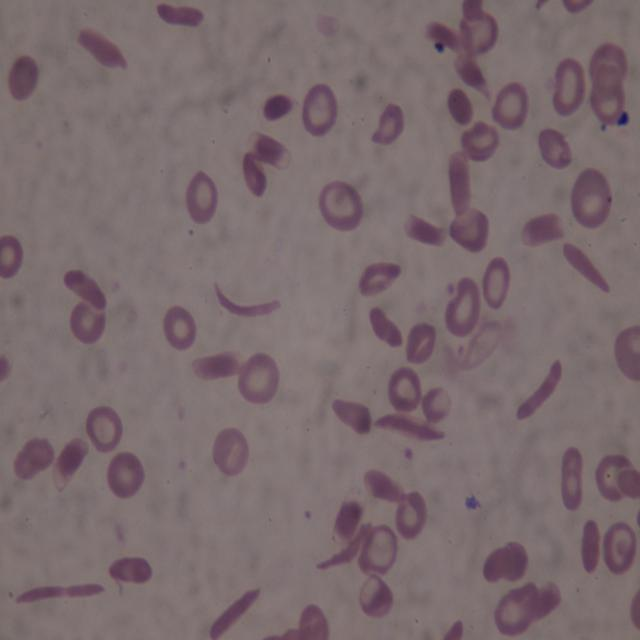Crystal: (64, 266, 108, 314), (54, 436, 89, 489), (330, 392, 371, 436), (368, 305, 404, 351), (362, 471, 408, 506), (250, 133, 291, 171), (454, 53, 490, 96), (560, 445, 582, 515), (448, 152, 472, 215), (522, 213, 564, 247), (108, 554, 152, 584), (424, 24, 465, 56), (404, 215, 445, 247), (242, 152, 268, 202), (192, 354, 241, 380), (156, 3, 203, 29), (580, 520, 600, 574), (444, 620, 466, 640)
Normal: (105, 450, 145, 500), (237, 353, 279, 400), (492, 80, 530, 130), (85, 404, 123, 452), (185, 169, 218, 224), (162, 305, 197, 351), (396, 492, 427, 538), (0, 233, 22, 280)
Others: (458, 315, 507, 372), (569, 167, 614, 227), (319, 178, 362, 235), (493, 580, 538, 634), (444, 273, 481, 337), (357, 522, 398, 574), (594, 452, 635, 503), (550, 56, 584, 116), (448, 206, 490, 252), (302, 83, 337, 137), (588, 74, 624, 125), (212, 426, 249, 474), (589, 44, 628, 89), (356, 263, 406, 298), (458, 14, 502, 52), (368, 103, 403, 149), (604, 521, 635, 572), (12, 437, 51, 477), (613, 325, 640, 382), (459, 123, 500, 160), (525, 582, 561, 624), (386, 368, 421, 411), (360, 572, 394, 616), (8, 54, 39, 102), (482, 256, 509, 310), (68, 302, 105, 341), (540, 126, 574, 168), (330, 498, 364, 536), (406, 323, 438, 362), (499, 539, 530, 579), (422, 386, 451, 424), (297, 603, 328, 638), (446, 89, 473, 126), (482, 548, 509, 584), (262, 92, 292, 122), (616, 466, 640, 502), (26, 440, 53, 467), (626, 584, 640, 636), (459, 0, 484, 23), (560, 0, 596, 14), (280, 626, 306, 640), (0, 353, 12, 383)
Sickle: (514, 356, 562, 419), (558, 240, 611, 294), (315, 522, 369, 572), (208, 588, 261, 637), (372, 414, 447, 444), (214, 283, 282, 316), (14, 582, 106, 606), (77, 27, 128, 70), (532, 0, 548, 11)
